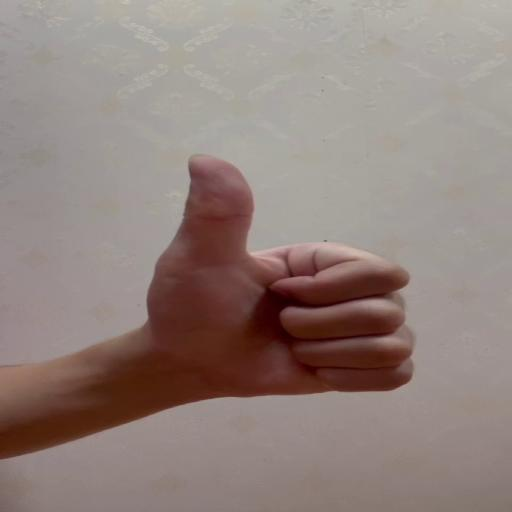thumbs_up: (151, 151, 417, 399)
